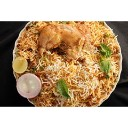briyani: (19, 22, 121, 104)
